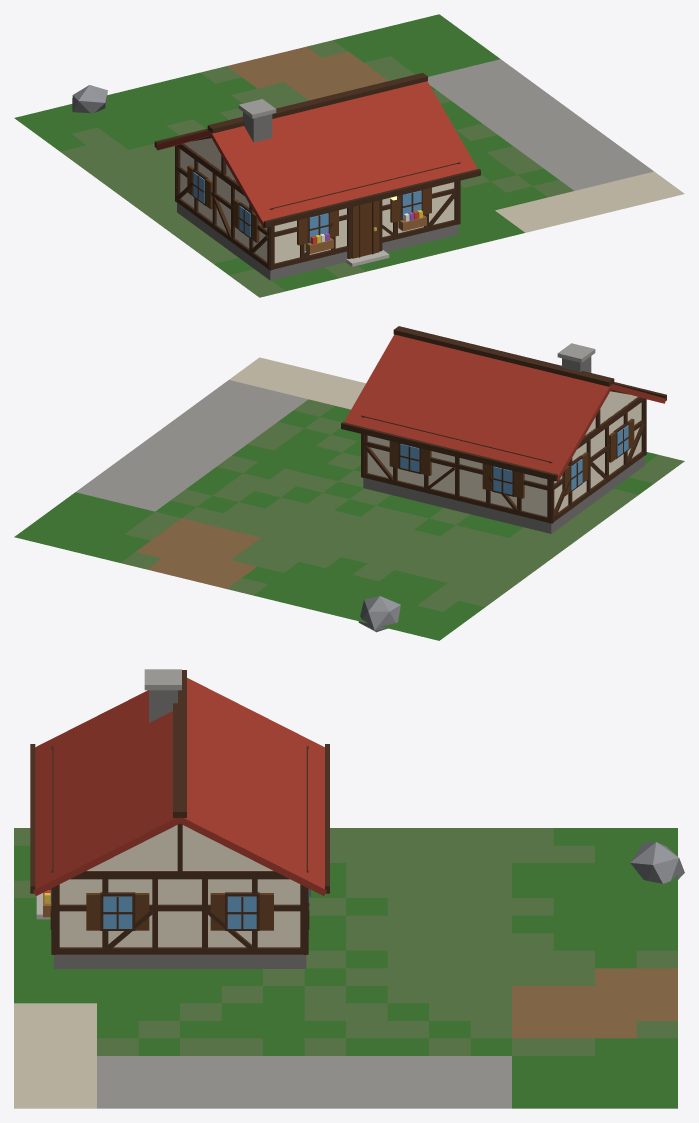
Rendered from chunk_1_5.glb.
The picture shows the model from 3 angles, top to bottom: view 1: azimuth 30°, elevation 25°; view 2: azimuth 150°, elevation 25°; view 3: azimuth 270°, elevation 25°; orthographic projection. The views are drawn at different scales.
Visible parts, largest first — view 1: chunk_1_5; view 2: chunk_1_5; view 3: chunk_1_5.
Part boxes in pixels (left/top/right/bottom): chunk_1_5: left=14, top=14, right=684, bottom=297; chunk_1_5: left=14, top=326, right=684, bottom=640; chunk_1_5: left=14, top=669, right=684, bottom=1108.
Bounding box in the file's own units: 16 × 5.43 × 16.17.
